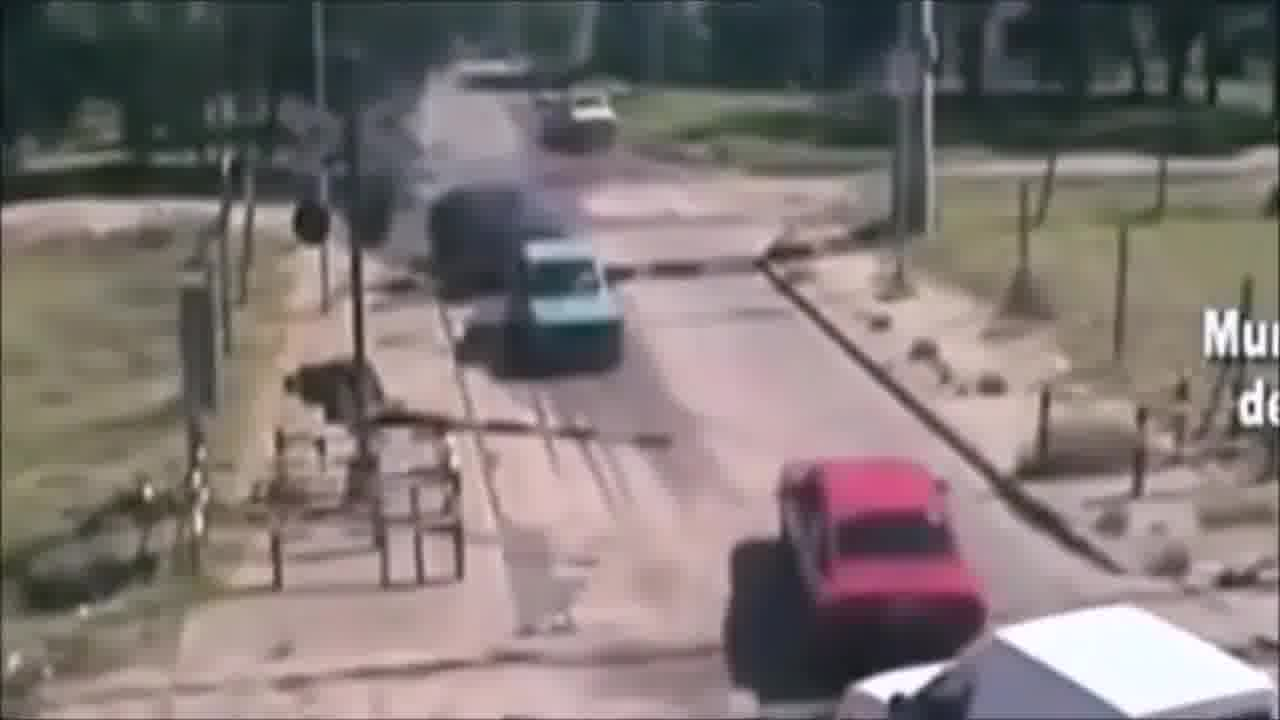crossing railway track: (755, 418, 1065, 720)
